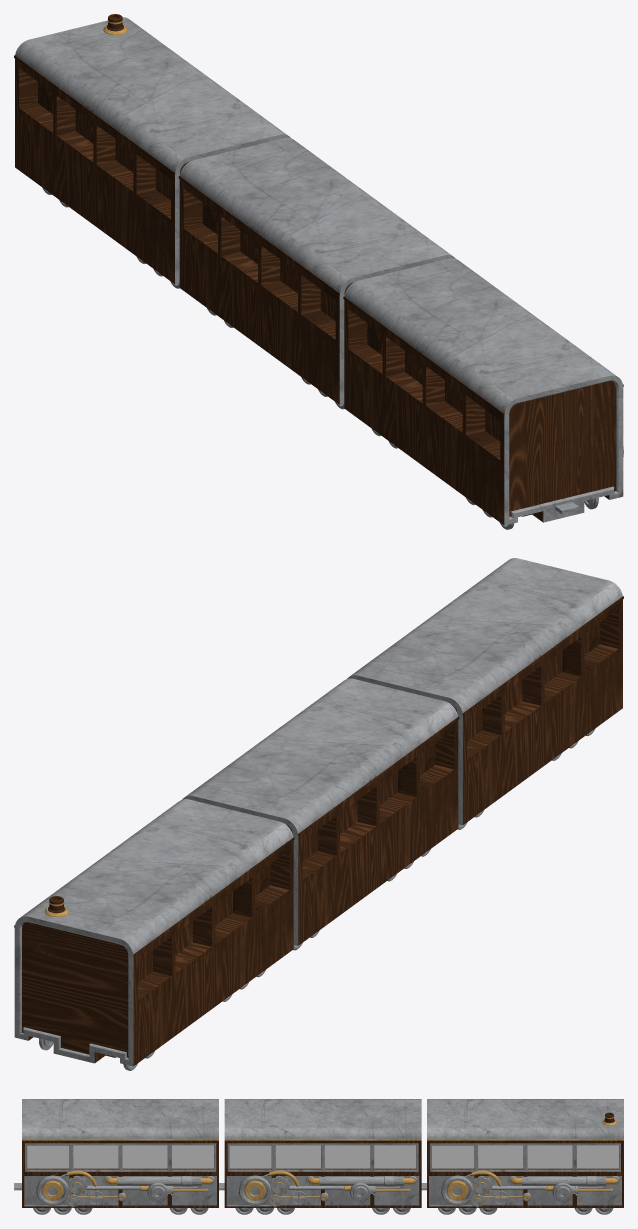
Rendered from train.fbx.
3 renders of one model, top to bottom at view 1: azimuth 30°, elevation 25°; view 2: azimuth 150°, elevation 25°; view 3: azimuth 270°, elevation 25°, orthographic. The views are drawn at different scales.
Parts seen in each view (by area): view 1: Cube.002, Cube.001, Cube; view 2: Cube, Cube.001, Cube.002; view 3: Cube.001, Cube.002, Cube, Cylinder.084, Cylinder.083, Cylinder, Cylinder.001, Cylinder.085, Cylinder.082, Cylinder.049, Cylinder.118, Cylinder.043 (+6 smaller).
Boxes of the visible parts, x1,y1,x2,y2 form: Cube.002: [343, 258, 623, 525]; Cube.001: [178, 137, 455, 404]; Cube: [14, 17, 290, 284]; Cube: [14, 799, 294, 1066]; Cube.001: [182, 678, 459, 945]; Cube.002: [347, 558, 623, 825]; Cube.001: [219, 1099, 421, 1207]; Cube.002: [14, 1099, 218, 1207]; Cube: [421, 1099, 623, 1207]; Cylinder.084: [117, 1176, 201, 1186]; Cylinder.083: [319, 1176, 403, 1186]; Cylinder: [522, 1176, 606, 1186]; Cylinder.001: [441, 1175, 473, 1206]; Cylinder.085: [36, 1175, 68, 1206]; Cylinder.082: [239, 1175, 271, 1206]; Cylinder.049: [472, 1176, 492, 1195]; Cylinder.118: [67, 1176, 87, 1195]; Cylinder.043: [269, 1175, 289, 1195].
Bounding box in the file's own units: 703 × 786 × 4514.
